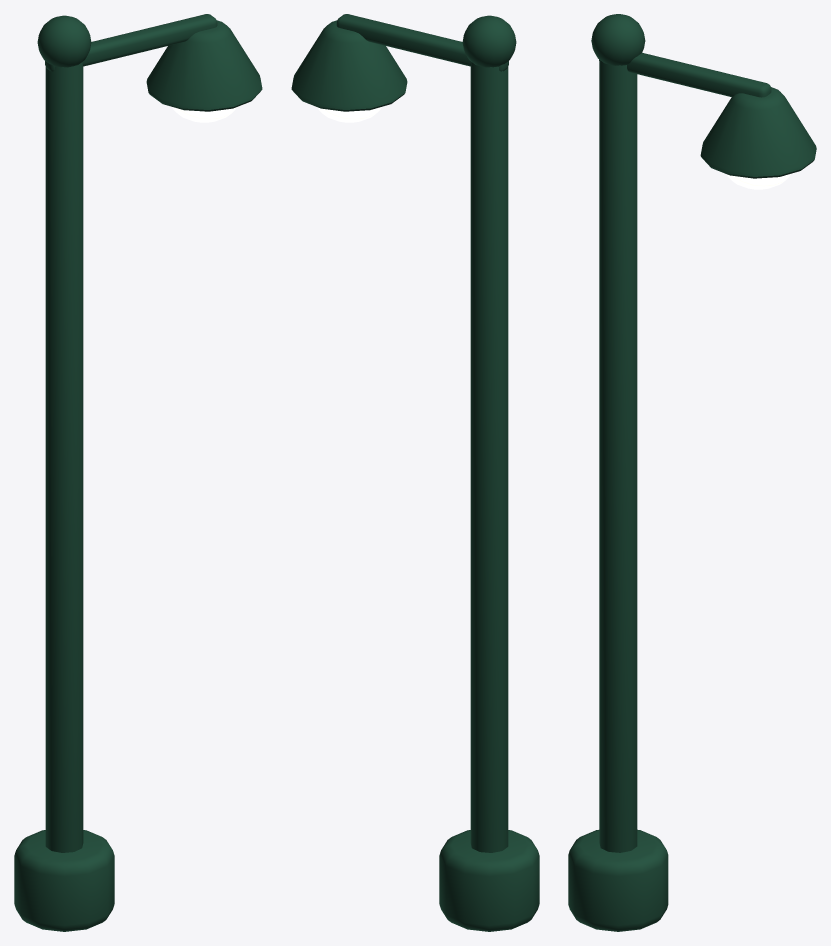
The model's file is prop_lamp.glb.
The picture shows the model from 3 angles, left to right: view 1: azimuth 30°, elevation 25°; view 2: azimuth 150°, elevation 25°; view 3: azimuth 330°, elevation 25°; orthographic projection.
Parts seen in each view (by area): view 1: lamp; view 2: lamp; view 3: lamp.
Part boxes in pixels (left/top/right/bottom): lamp: left=14, top=14, right=262, bottom=931; lamp: left=291, top=14, right=539, bottom=931; lamp: left=568, top=14, right=816, bottom=931.
Size of the model in its own units: 0.6984 by 2.57 by 0.3046.
